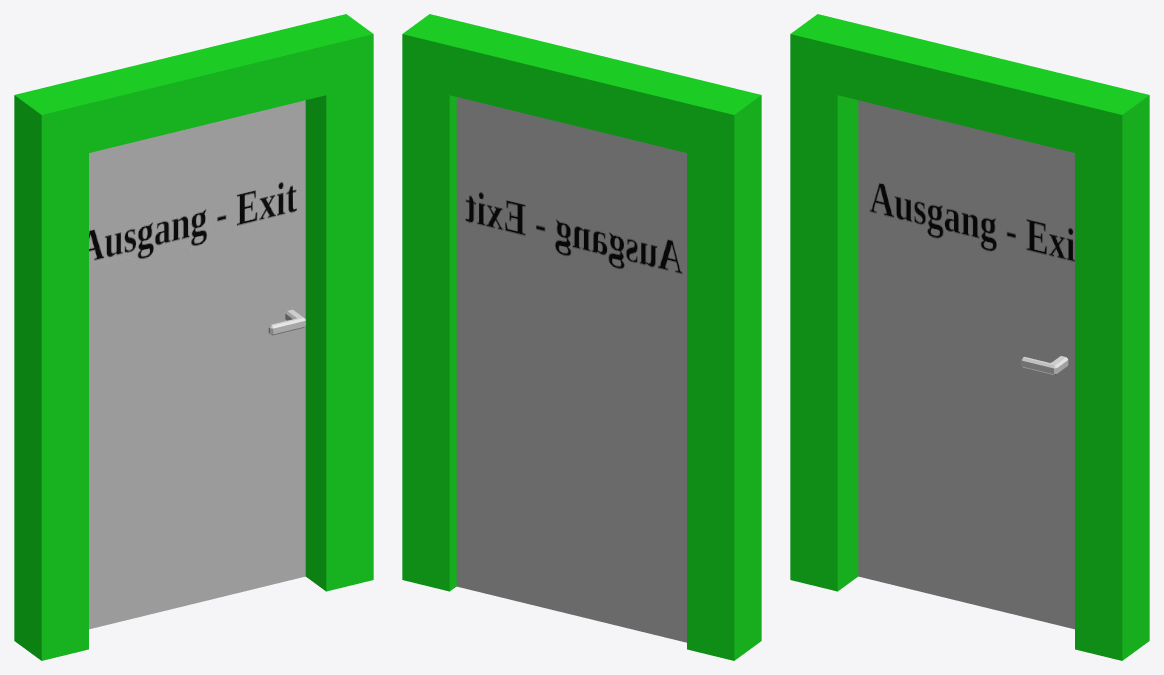
The model's file is backrooms_exit_green.glb.
The picture shows the model from 3 angles, left to right: view 1: azimuth 30°, elevation 25°; view 2: azimuth 150°, elevation 25°; view 3: azimuth 330°, elevation 25°; orthographic projection.
Parts seen in each view (by area): view 1: Plane; view 2: Plane; view 3: Plane.
Part boxes in pixels (box(x1,y1,x2,y2)): Plane: box(14, 14, 373, 660); Plane: box(402, 14, 761, 660); Plane: box(790, 14, 1149, 660).
Size of the model in its own units: 2.8 by 4.4 by 0.4.
3 materials, 1 textured.
